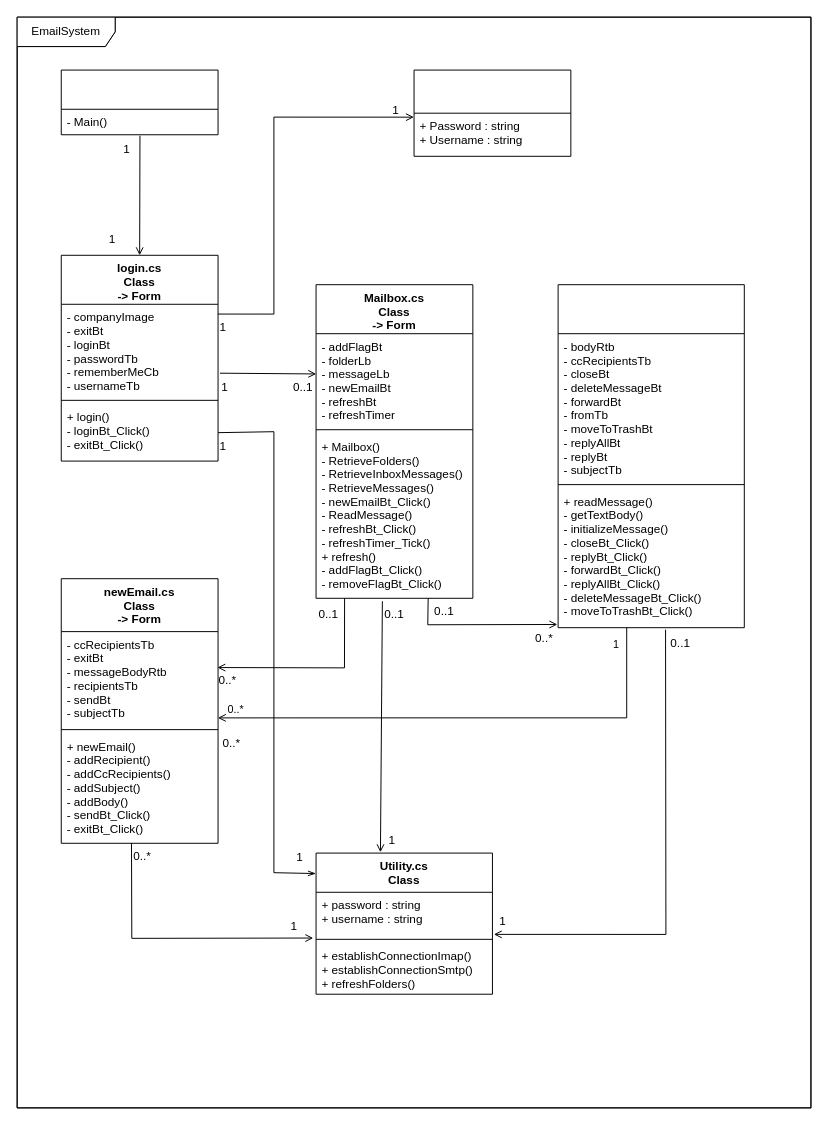
The diagram is 828 pixels wide and 1125 high, and some of its shapes have lost their labels. Each missing label, with the box of its shape:
Program.cs Class: (60, 69, 218, 135)
readMessage.cs Class -> Form: (557, 284, 744, 628)
Settings.cs Class: (413, 69, 571, 156)
